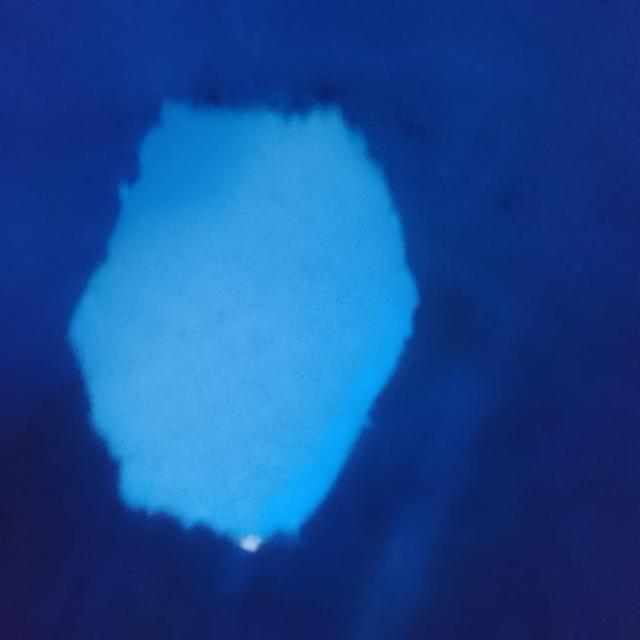litter: (63, 51, 433, 578)
